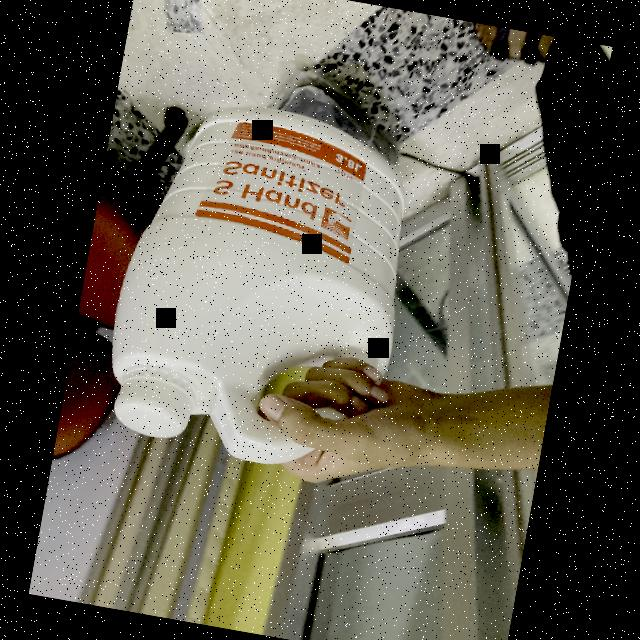chemical_plastic_gallon: (99, 86, 428, 483)
